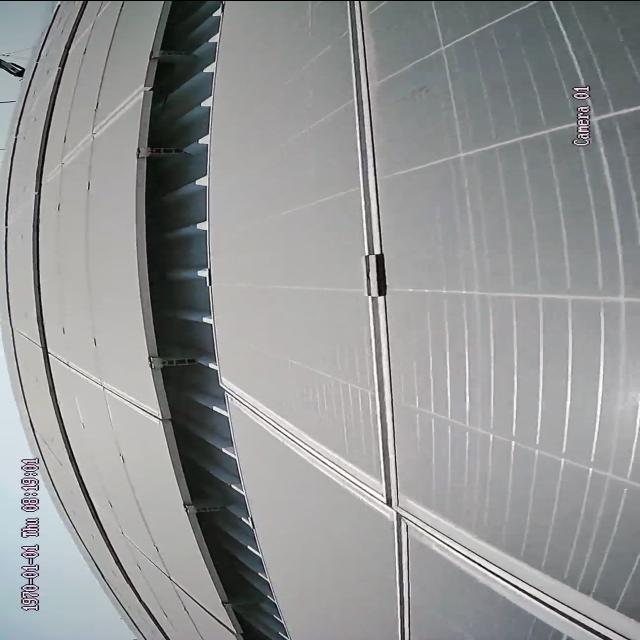interior panel: (244, 11, 640, 638), (50, 93, 135, 178), (146, 557, 234, 636), (57, 351, 154, 420)
outher panel: (137, 0, 291, 640)
